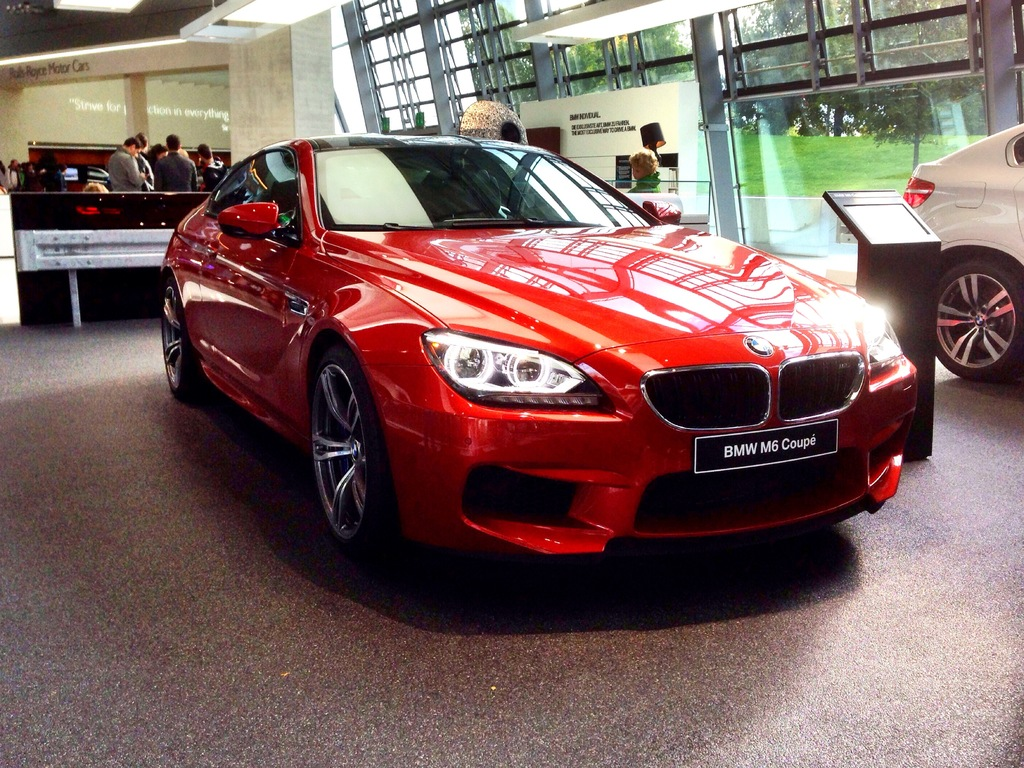Car: (160, 132, 917, 555), (905, 124, 1024, 381)
